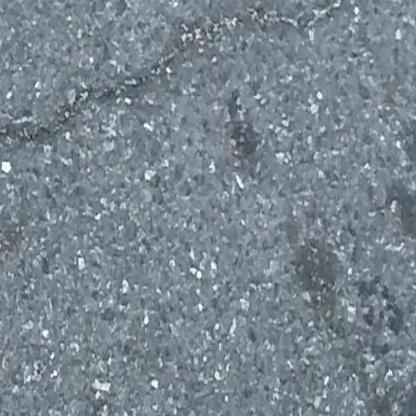Cracks: (0, 0, 353, 170), (0, 236, 13, 267)
